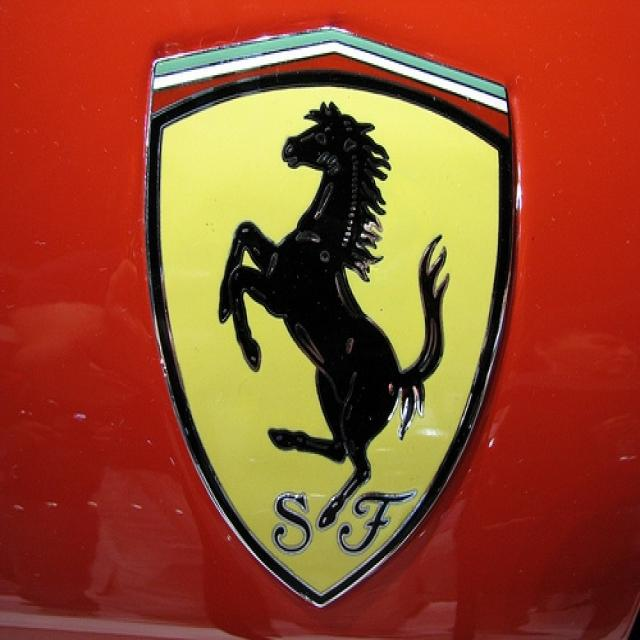ferrari: (142, 27, 521, 616)
